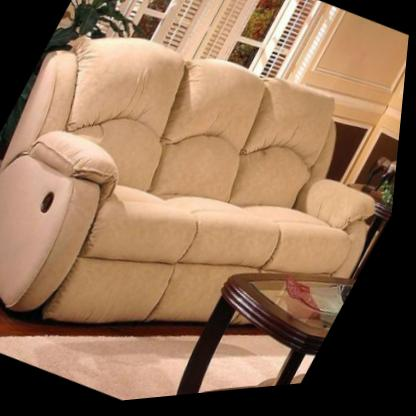Sofa: (0, 0, 416, 416)
Table: (162, 238, 365, 401)
